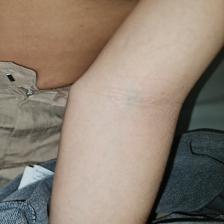DA: (110, 76, 186, 124)
